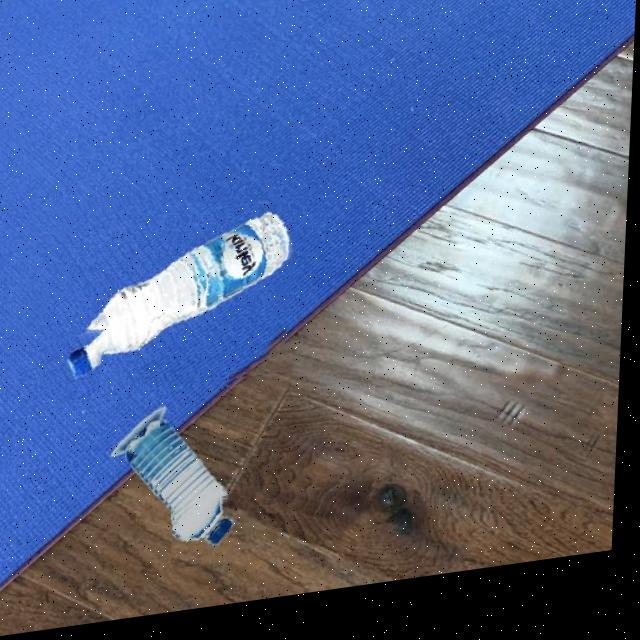litter: (42, 182, 303, 408), (176, 499, 261, 575), (55, 329, 110, 399)
